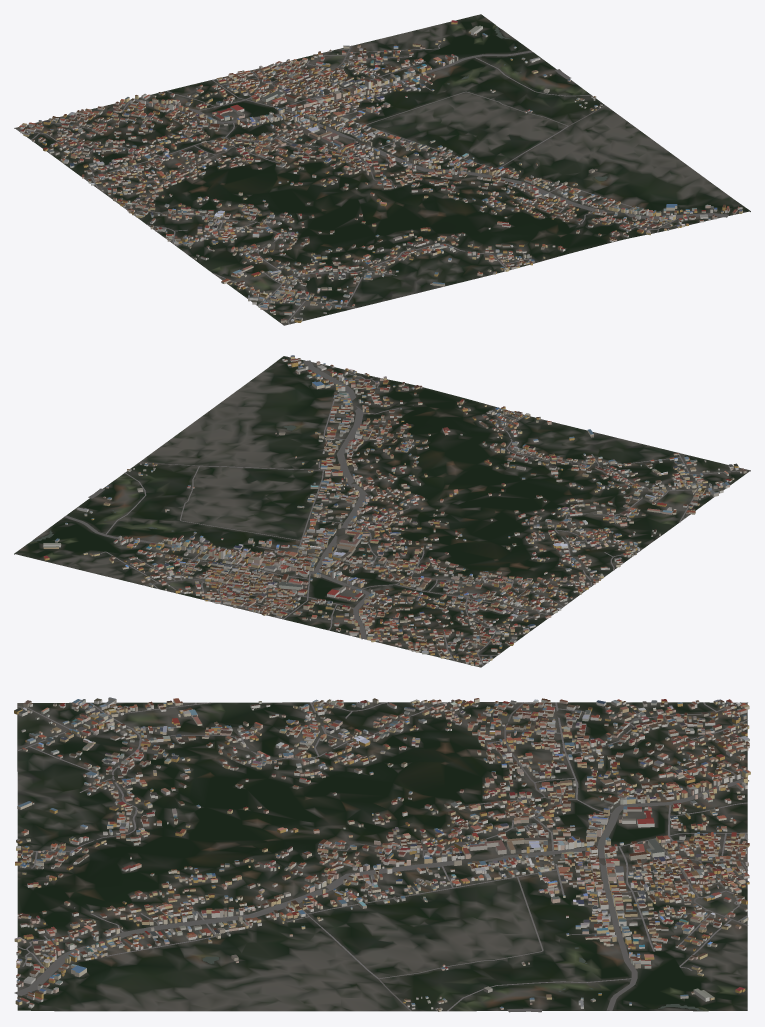
3 views of the same model, one above another, from view 1: azimuth 30°, elevation 25°; view 2: azimuth 150°, elevation 25°; view 3: azimuth 270°, elevation 25° (orthographic). The views are drawn at different scales.
Visible parts, largest first — view 1: ground, buildings, roads; view 2: ground, buildings, roads; view 3: ground, buildings, roads.
Part boxes in pixels (<box>): ground: <box>14,14,750,325</box>; buildings: <box>19,20,742,322</box>; roads: <box>16,44,728,324</box>; ground: <box>14,356,750,667</box>; buildings: <box>43,355,746,665</box>; roads: <box>64,360,745,665</box>; ground: <box>17,702,747,1011</box>; buildings: <box>14,697,750,1011</box>; roads: <box>14,702,748,1012</box>.
Bounding box in the file's own units: 1417 × 26.57 × 1415.
